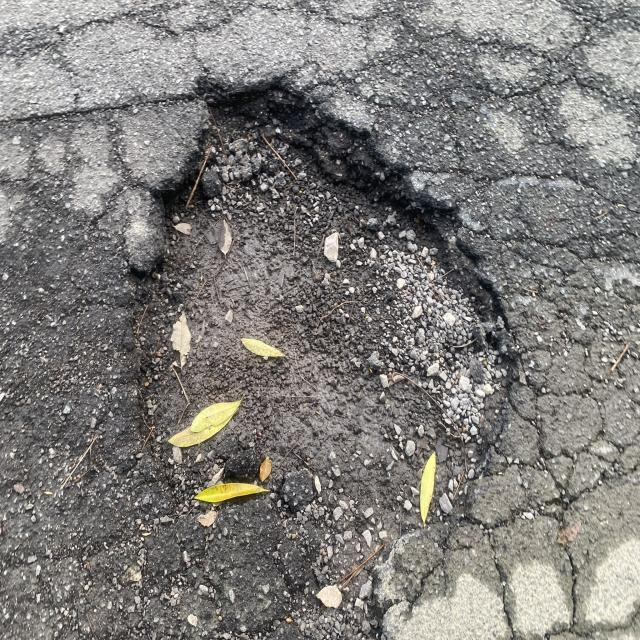Pothole: (133, 50, 542, 564)
